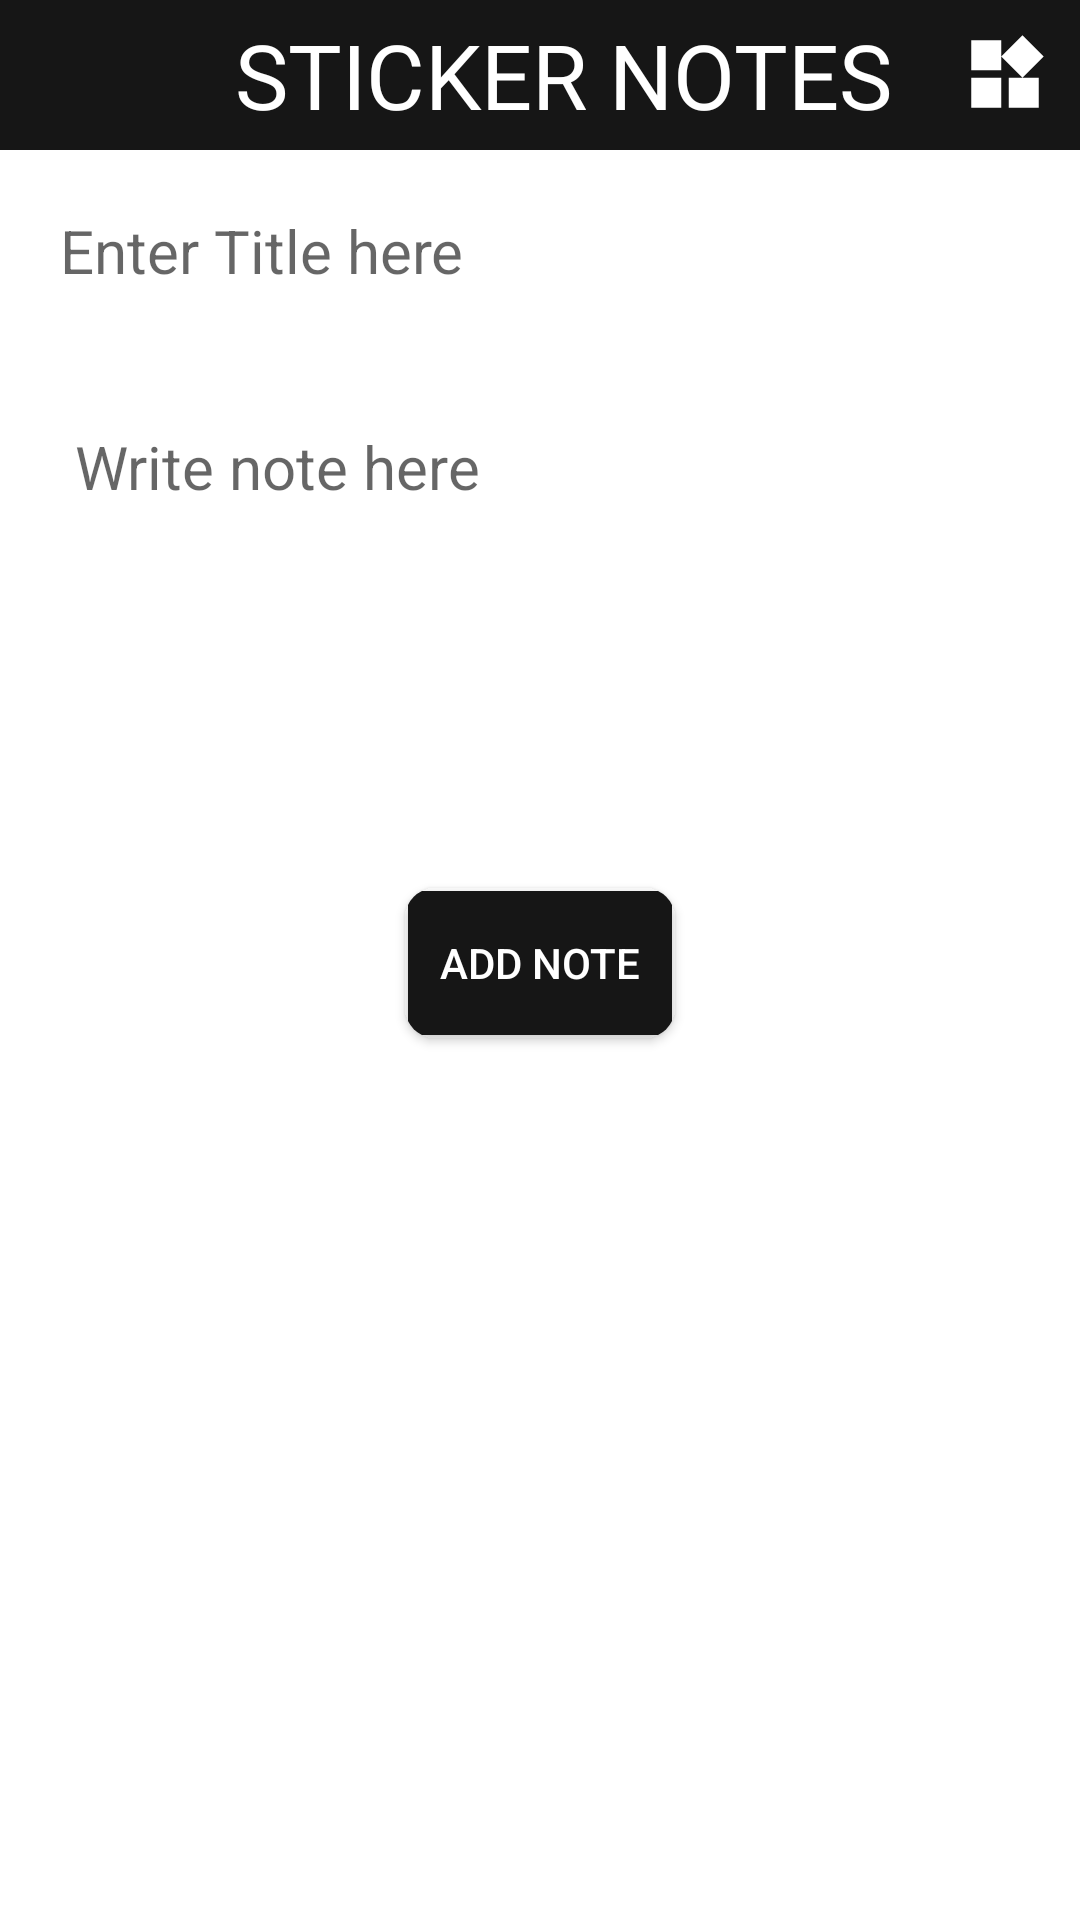

Screen size 1080w x 1920h. Icon name, then its box in pixels as bbox(x1, y1, x2, y2):
widgets: bbox(971, 35, 1044, 108)
